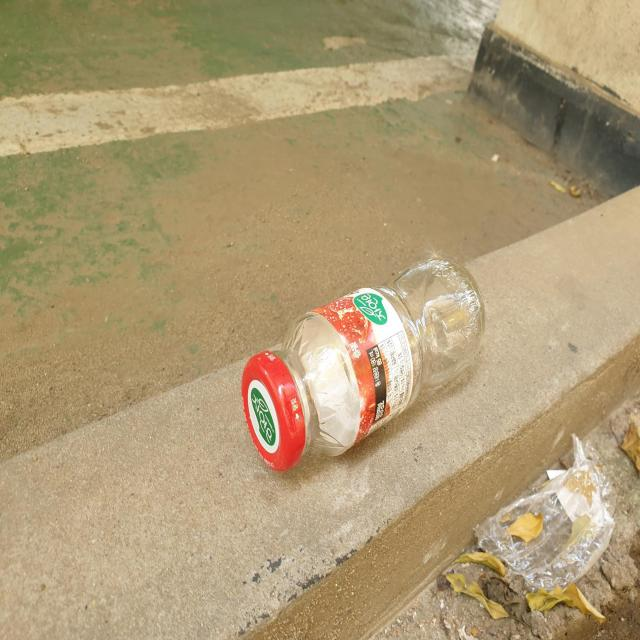glass: (242, 256, 486, 471)
